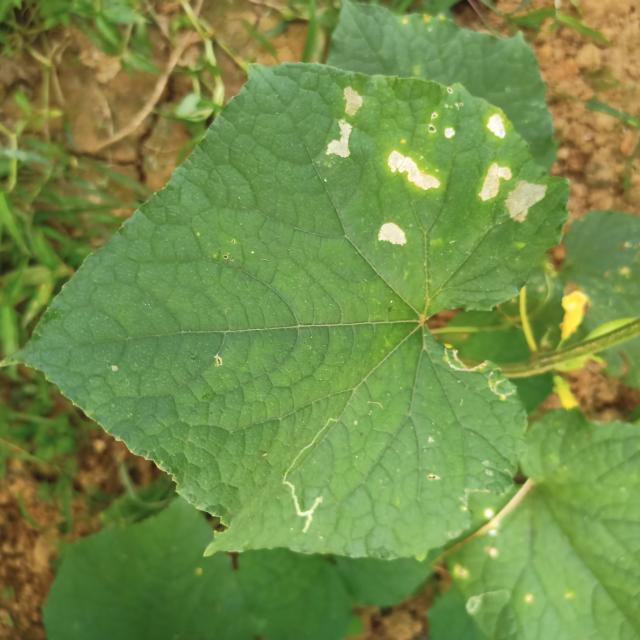disease_cucumber: (474, 106, 551, 225), (384, 112, 461, 197), (322, 82, 366, 163), (370, 211, 411, 253)
